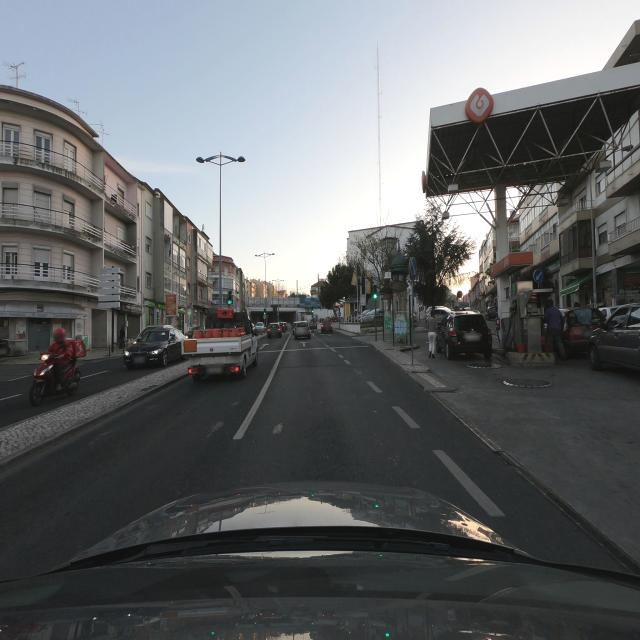bike: (28, 346, 82, 406)
car: (587, 300, 640, 382), (435, 309, 493, 361), (123, 325, 183, 370), (561, 306, 607, 357), (424, 306, 451, 328), (293, 320, 311, 340), (267, 322, 282, 339), (320, 318, 333, 334), (279, 321, 288, 332), (255, 322, 264, 333)
